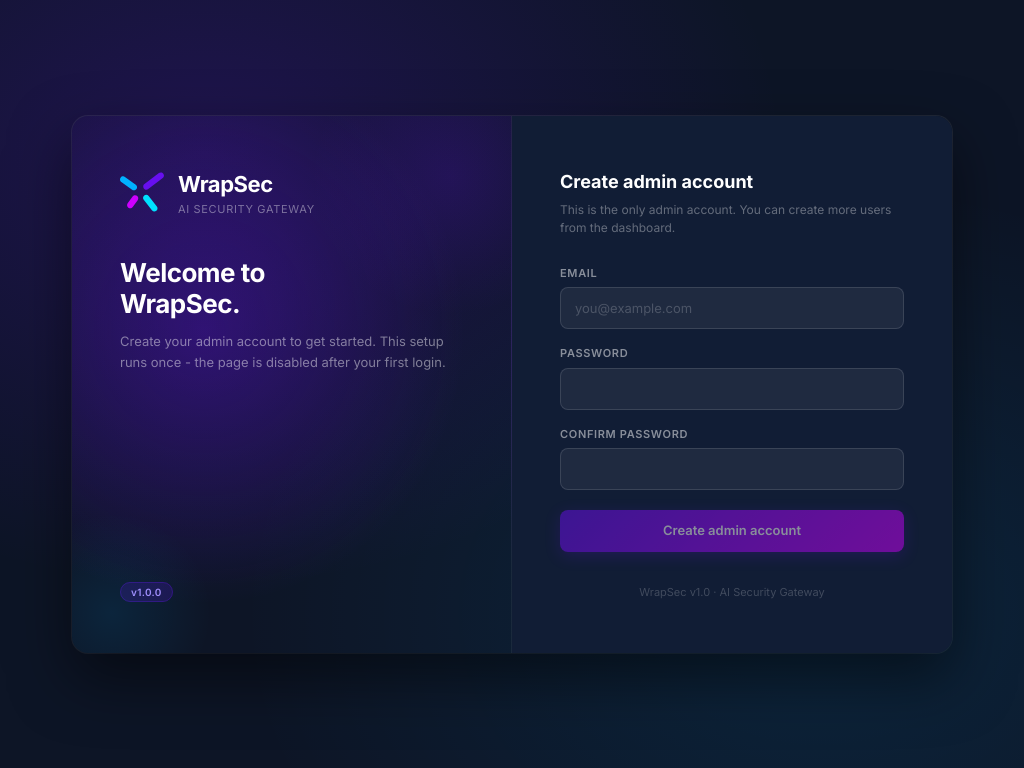
Test: SetupPage create-admin flow › surfaces the backend error message on failure
The width and height of the screenshot is (1024, 768).
Step 1. Type "admin@example.com" into the field with placeholder "you@example.com" → (732, 308), box [560, 287, 904, 329]
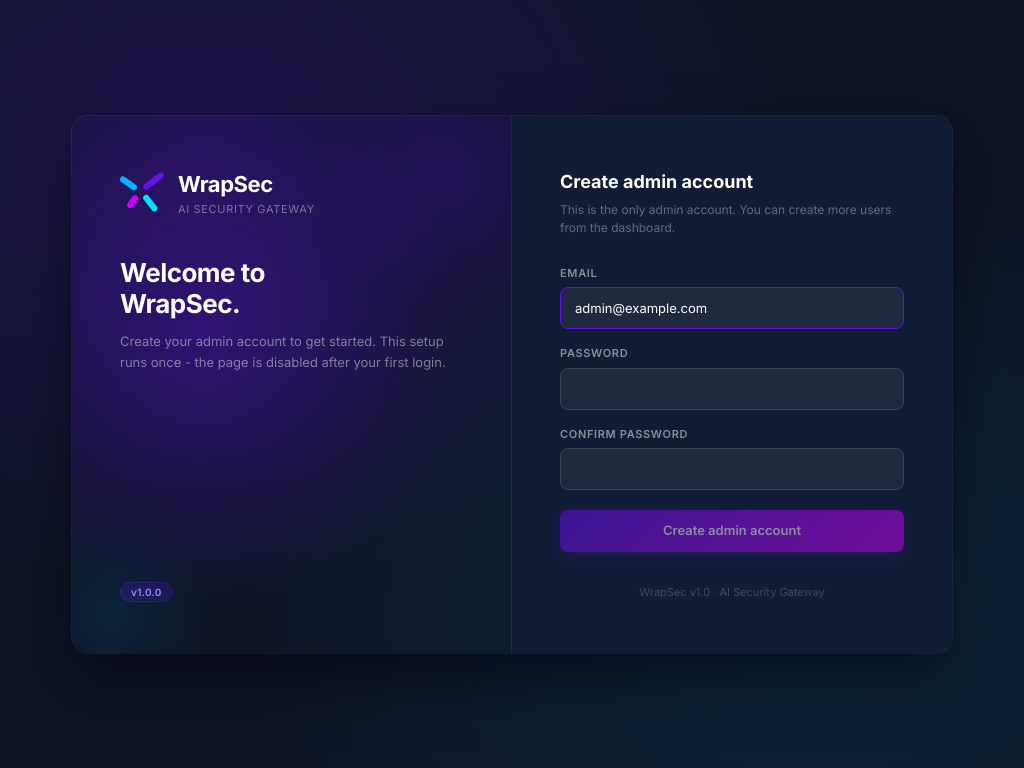
Step 2. Type "secret123" into the 1st password field → (732, 388), box [560, 368, 904, 410]
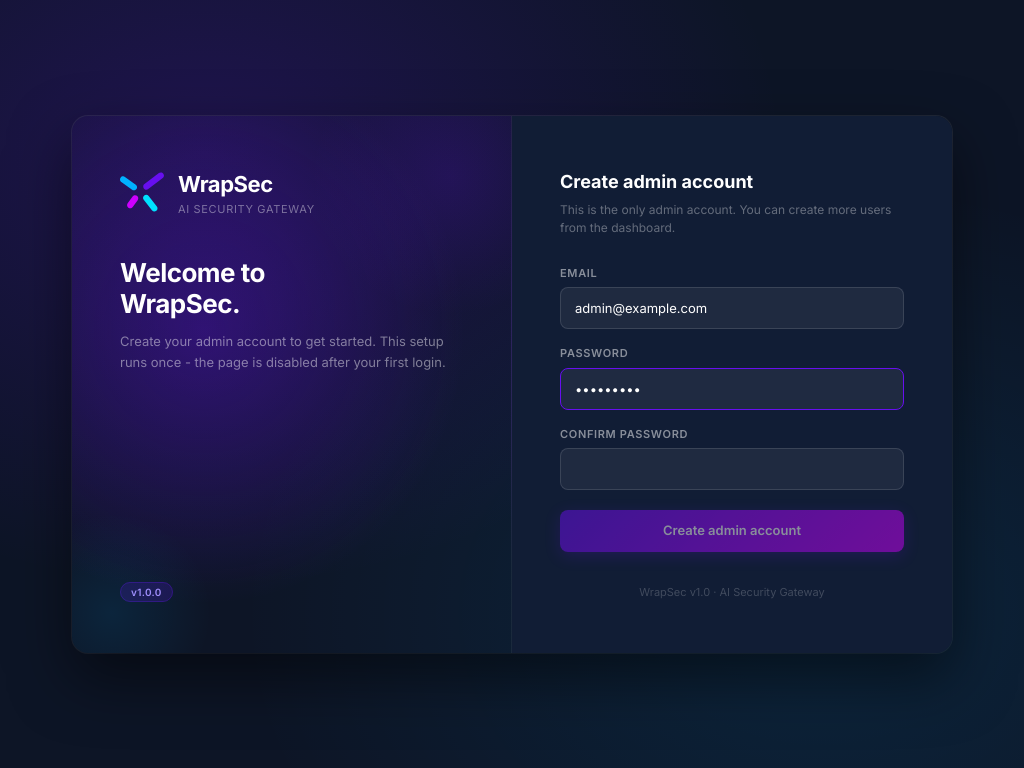
Step 3. Type "secret123" into the password field below "Confirm password" → (732, 469), box [560, 448, 904, 490]
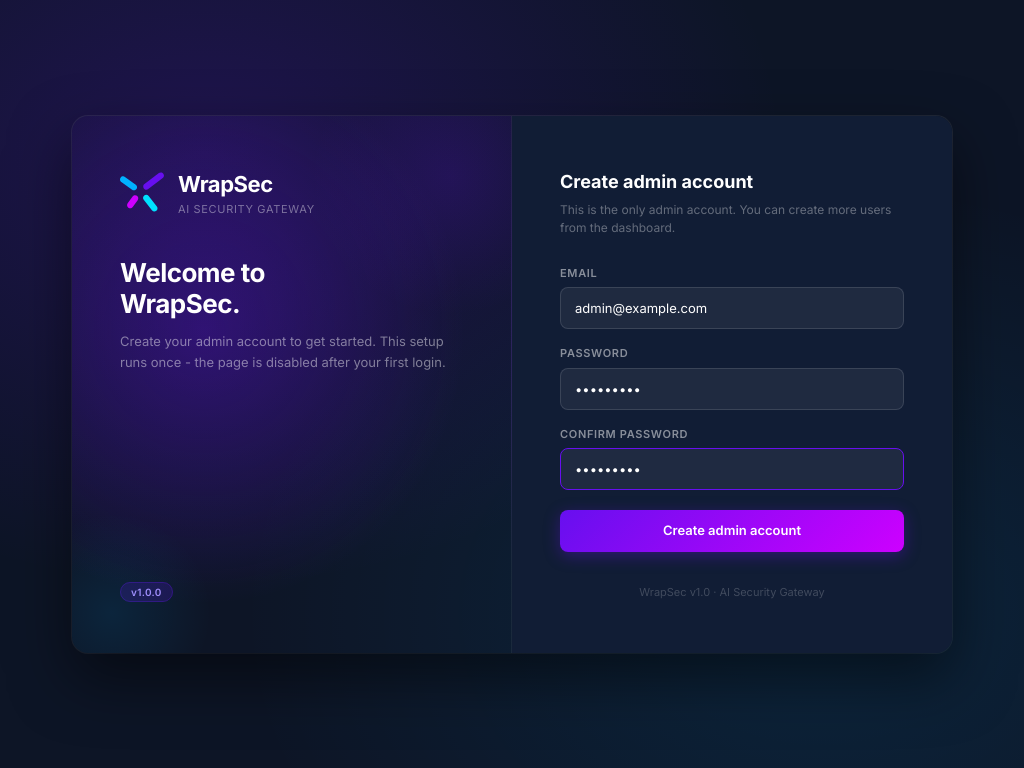
Step 4. Click the button "Create admin account" → (732, 531), box [560, 510, 904, 552]
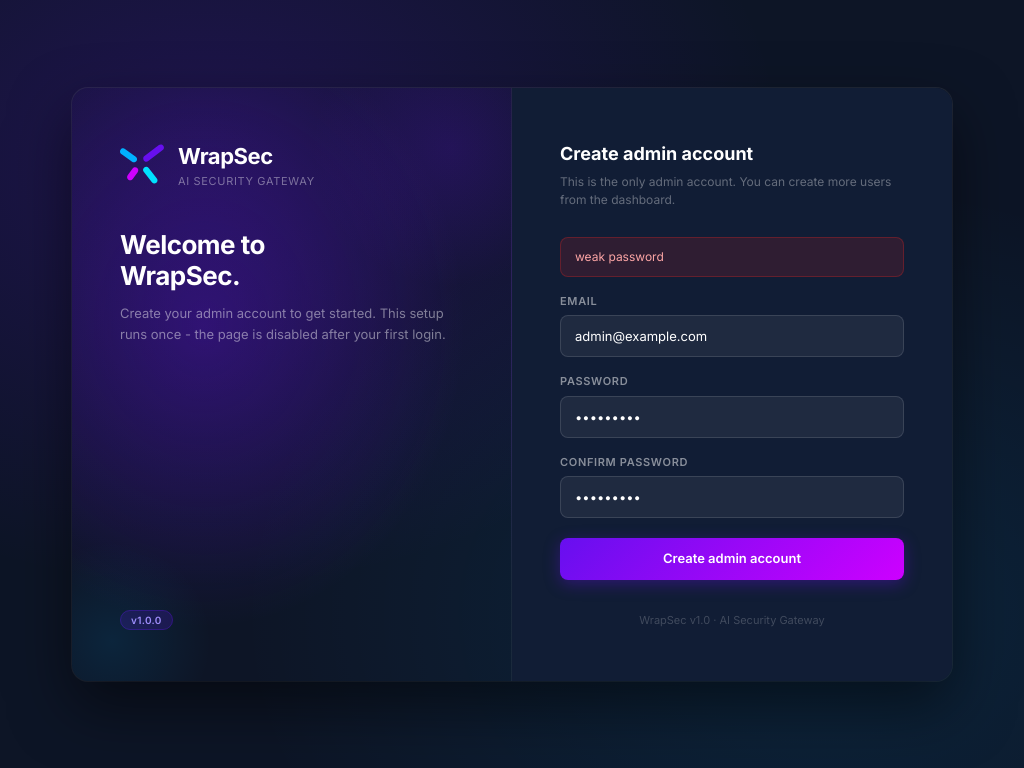
Result: the text "weak password" is shown at [560, 236, 904, 276]
